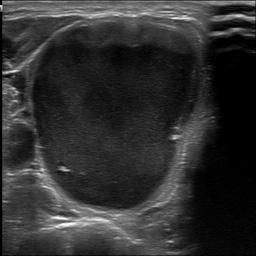mass: (34, 18, 201, 212)
